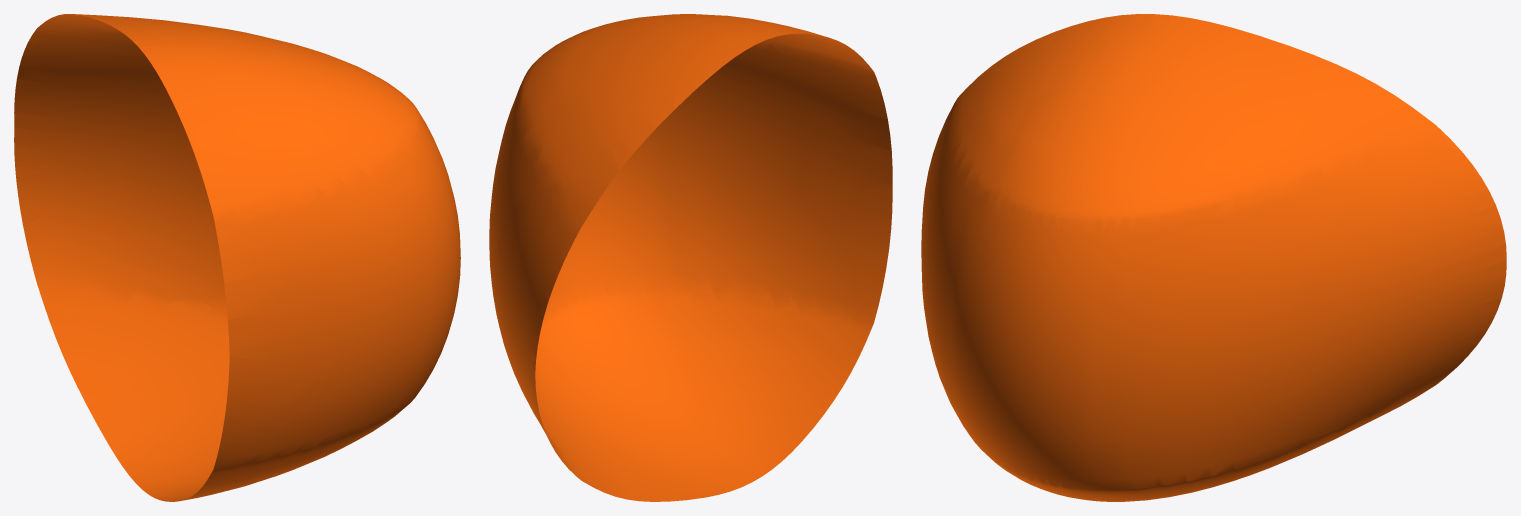
Rendered from link_6_orange.obj.
3 renders of one model, left to right at view 1: azimuth 30°, elevation 25°; view 2: azimuth 150°, elevation 25°; view 3: azimuth 270°, elevation 25°, orthographic. The views are drawn at different scales.
Visible parts, largest first — view 1: link_6_orange; view 2: link_6_orange; view 3: link_6_orange.
Boxes of the visible parts, x1,y1,x2,y2 form: link_6_orange: [14, 14, 460, 501]; link_6_orange: [489, 14, 892, 501]; link_6_orange: [921, 14, 1506, 501].
Size of the model in its own units: 0.0921 by 0.1322 by 0.1574.
